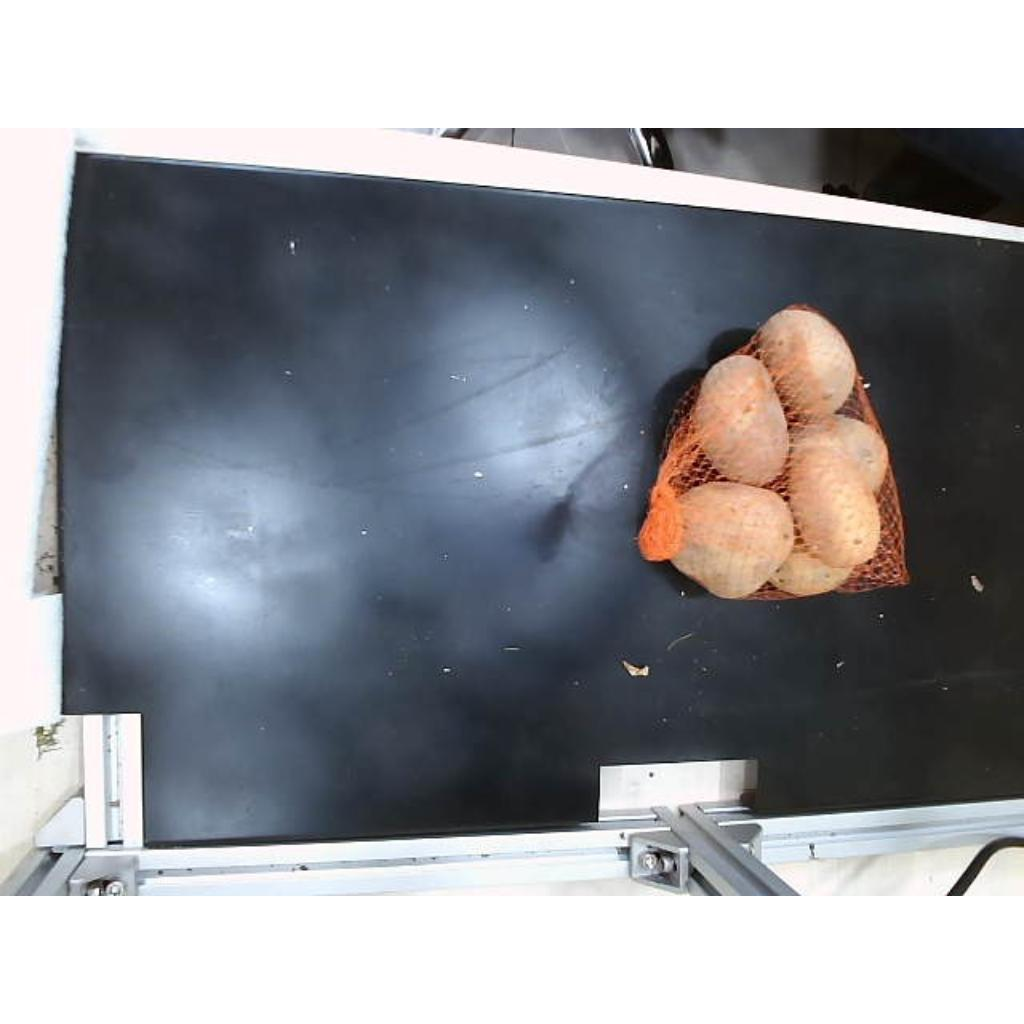potato: (638, 482, 790, 598), (792, 422, 880, 568), (692, 354, 788, 485), (758, 306, 854, 415), (803, 414, 888, 491), (770, 550, 850, 595)
